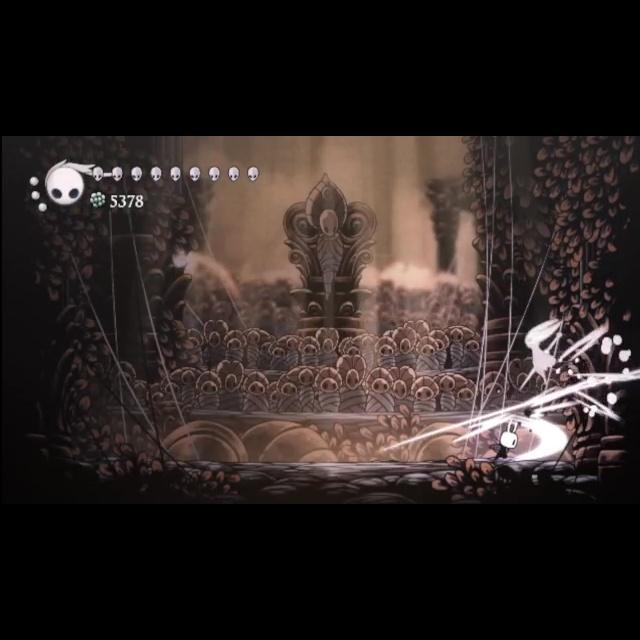EnemyDamaged: (512, 314, 572, 394)
Player: (490, 416, 524, 462)
